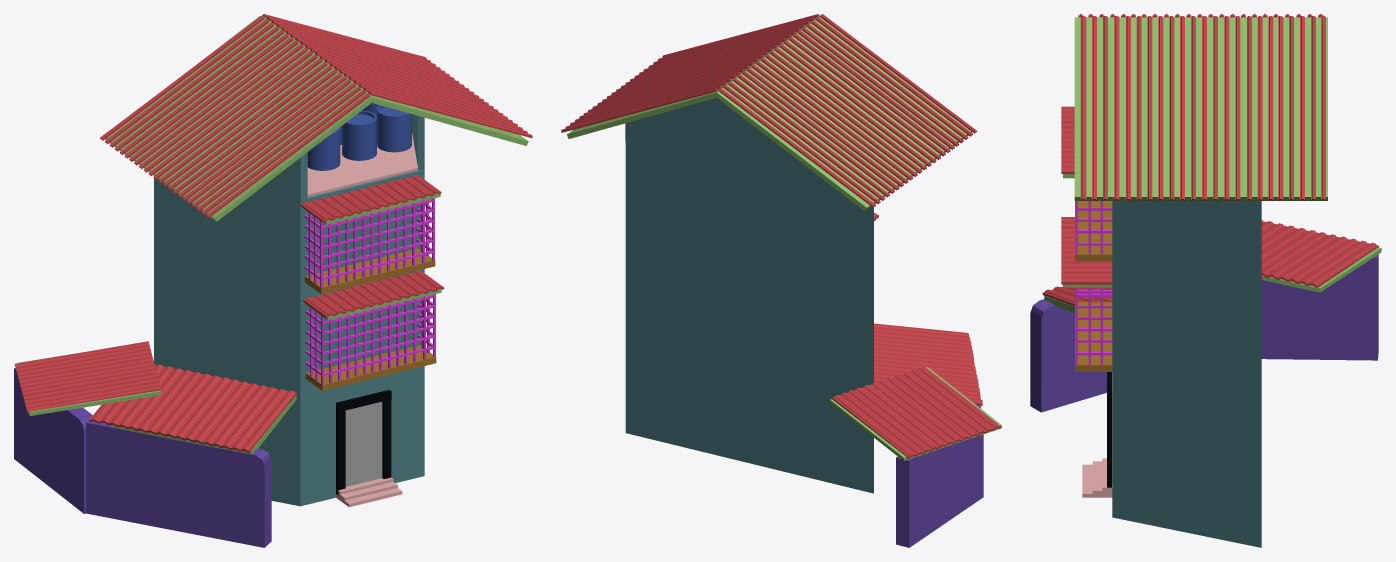
The model's file is house3.fbx.
3 renders of one model, left to right at view 1: azimuth 30°, elevation 25°; view 2: azimuth 150°, elevation 25°; view 3: azimuth 270°, elevation 25°, orthographic. The views are drawn at different scales.
Parts seen in each view (by area): view 1: cilling4, wall, wall2, wall7, cilling3, wall6, cilling5, cilling2, cilling, wall1, cilling6, cilling7 (+12 smaller); view 2: wall, wall7, wall6, cilling4, cilling3, cilling, cilling2, wall3, wall1, cilling5, balcony; view 3: cilling3, cilling2, wall6, wall, wall7, wall1, wall2, cilling, balcony_ground1, cilling7, balcony_ground, cilling6 (+5 smaller).
Part boxes in pixels (x1,y1,x2,y2): cilling4: [100, 15, 369, 218]; wall: [154, 272, 424, 404]; wall2: [86, 419, 271, 547]; wall7: [154, 170, 424, 302]; cilling3: [105, 16, 528, 221]; wall6: [258, 374, 424, 506]; cilling5: [89, 361, 296, 452]; cilling2: [262, 14, 532, 137]; cilling: [14, 341, 161, 413]; wall1: [14, 368, 92, 513]; cilling6: [300, 175, 441, 222]; cilling7: [303, 270, 443, 317]; wall: [625, 238, 873, 390]; wall7: [625, 140, 873, 298]; wall6: [625, 335, 873, 493]; cilling4: [719, 14, 977, 207]; cilling3: [567, 14, 972, 211]; cilling: [832, 366, 1000, 458]; cilling2: [561, 14, 819, 132]; wall3: [625, 98, 840, 192]; wall1: [896, 434, 983, 547]; cilling5: [874, 323, 982, 405]; balcony: [829, 367, 1001, 460]; cilling3: [1074, 17, 1327, 200]; cilling2: [1080, 16, 1325, 200]; wall6: [1112, 402, 1261, 547]; wall: [1112, 286, 1261, 432]; wall7: [1112, 201, 1261, 316]; wall1: [1261, 254, 1378, 360]; wall2: [1030, 299, 1106, 412]; cilling: [1261, 220, 1378, 287]; balcony_ground1: [1075, 302, 1112, 371]; cilling7: [1061, 217, 1112, 284]; balcony_ground: [1075, 201, 1112, 261]; cilling6: [1061, 106, 1074, 173].
Size of the model in its own units: 1127 by 1030 by 706.
